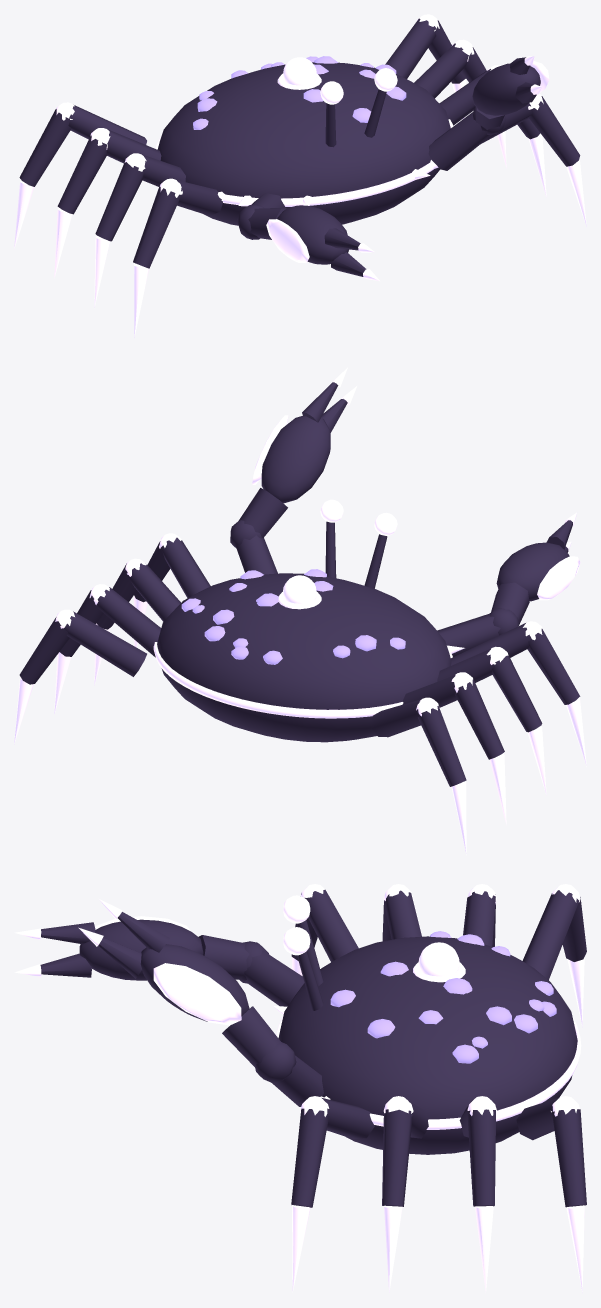
File: lemooncrab.glb
3 views of the same model, one above another, from view 1: azimuth 30°, elevation 25°; view 2: azimuth 150°, elevation 25°; view 3: azimuth 270°, elevation 25° (orthographic). The views are drawn at different scales.
Visible parts, largest first — view 1: carapace, legs, legEdges, palm (×2), arm (×2), edge, knobs, palmEdge, stalks, eyeballs, pearl, dactylFinger (+1 smaller); view 2: carapace, legs, palm (×2), arm (×2), legEdges, knobs, edge, stalks, palmEdge, eyeballs, pearl; view 3: carapace, legs, arm (×2), legEdges, palm (×2), knobs, palmEdge, edge, fixedFinger (×2), dactylFinger (×2), eyeballs, pearl (+1 smaller).
Part boxes in pixels (bbox=[...]): carapace: bbox=[157, 62, 450, 225]; legs: bbox=[19, 18, 580, 268]; legEdges: bbox=[14, 14, 586, 337]; palm (×2): bbox=[277, 63, 540, 264]; arm (×2): bbox=[237, 106, 506, 239]; edge: bbox=[155, 119, 453, 206]; knobs: bbox=[193, 56, 406, 129]; palmEdge: bbox=[266, 219, 309, 262]; stalks: bbox=[325, 89, 386, 147]; eyeballs: bbox=[320, 68, 397, 104]; pearl: bbox=[283, 57, 316, 85]; dactylFinger: bbox=[324, 228, 360, 250]; carapace: bbox=[157, 573, 451, 742]; legs: bbox=[19, 537, 580, 786]; palm (×2): bbox=[261, 415, 569, 601]; arm (×2): bbox=[230, 488, 529, 656]; legEdges: bbox=[14, 533, 586, 855]; knobs: bbox=[181, 569, 405, 664]; edge: bbox=[153, 623, 464, 718]; stalks: bbox=[325, 521, 387, 588]; palmEdge: bbox=[537, 556, 580, 600]; eyeballs: bbox=[320, 499, 397, 536]; pearl: bbox=[283, 575, 316, 603]; carapace: bbox=[278, 936, 577, 1154]; legs: bbox=[291, 889, 586, 1207]; arm (×2): bbox=[198, 935, 323, 1106]; legEdges: bbox=[292, 884, 584, 1292]; palm (×2): bbox=[79, 919, 249, 1021]; knobs: bbox=[330, 931, 556, 1063]; palmEdge: bbox=[153, 963, 241, 1025]; edge: bbox=[273, 1006, 581, 1129]; fixedFinger (×2): bbox=[40, 938, 141, 978]; dactylFinger (×2): bbox=[41, 912, 169, 952]; eyeballs: bbox=[283, 895, 310, 955]; pearl: bbox=[418, 942, 459, 976].
Bounding box in the file's own units: 1.34 × 0.748 × 1.22.
